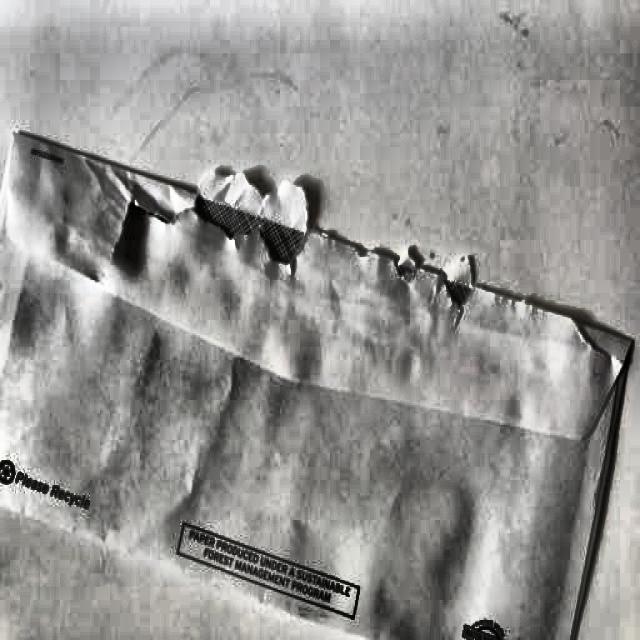paper: (0, 128, 625, 638)
